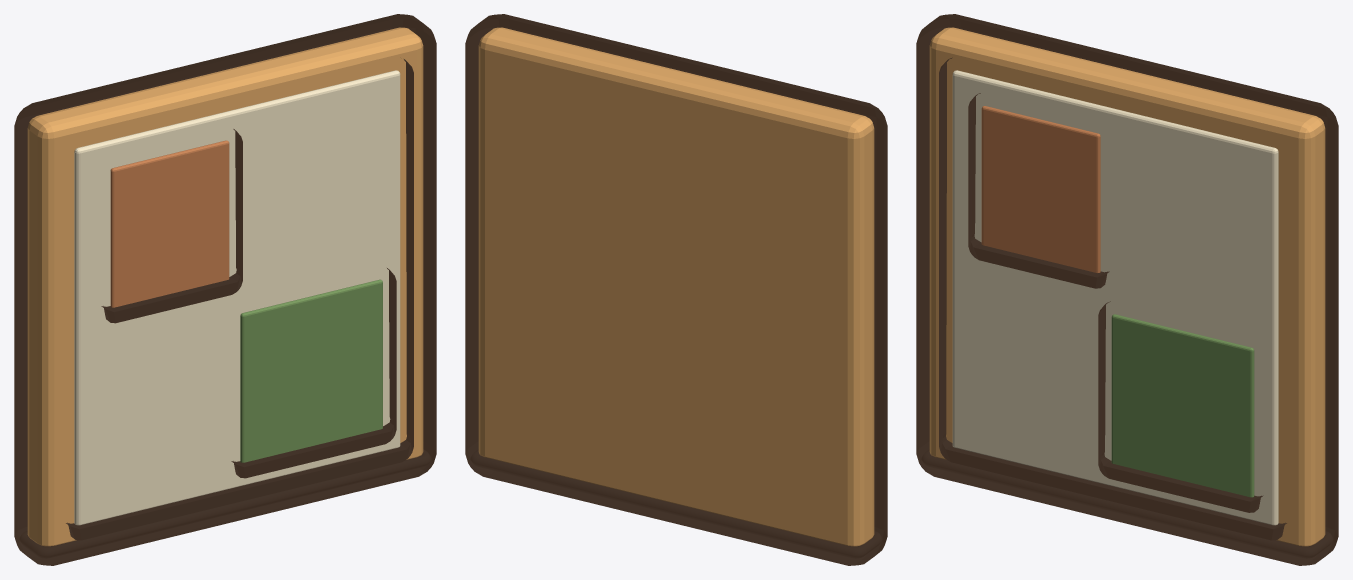
Rendered from quadro.glb.
3 views of the same model, side by side, from view 1: azimuth 30°, elevation 25°; view 2: azimuth 150°, elevation 25°; view 3: azimuth 330°, elevation 25° (orthographic).
Visible parts, largest first — view 1: quadro, quadro_outline; view 2: quadro, quadro_outline; view 3: quadro, quadro_outline.
Boxes of the visible parts, x1=… form: quadro: x1=27, y1=27, x2=423, y2=546; quadro_outline: x1=14, y1=14, x2=436, y2=565; quadro: x1=478, y1=27, x2=874, y2=546; quadro_outline: x1=465, y1=14, x2=887, y2=565; quadro: x1=929, y1=27, x2=1325, y2=546; quadro_outline: x1=916, y1=14, x2=1338, y2=565.
Bounding box in the file's own units: 0.6893 × 0.7333 × 0.1183.
